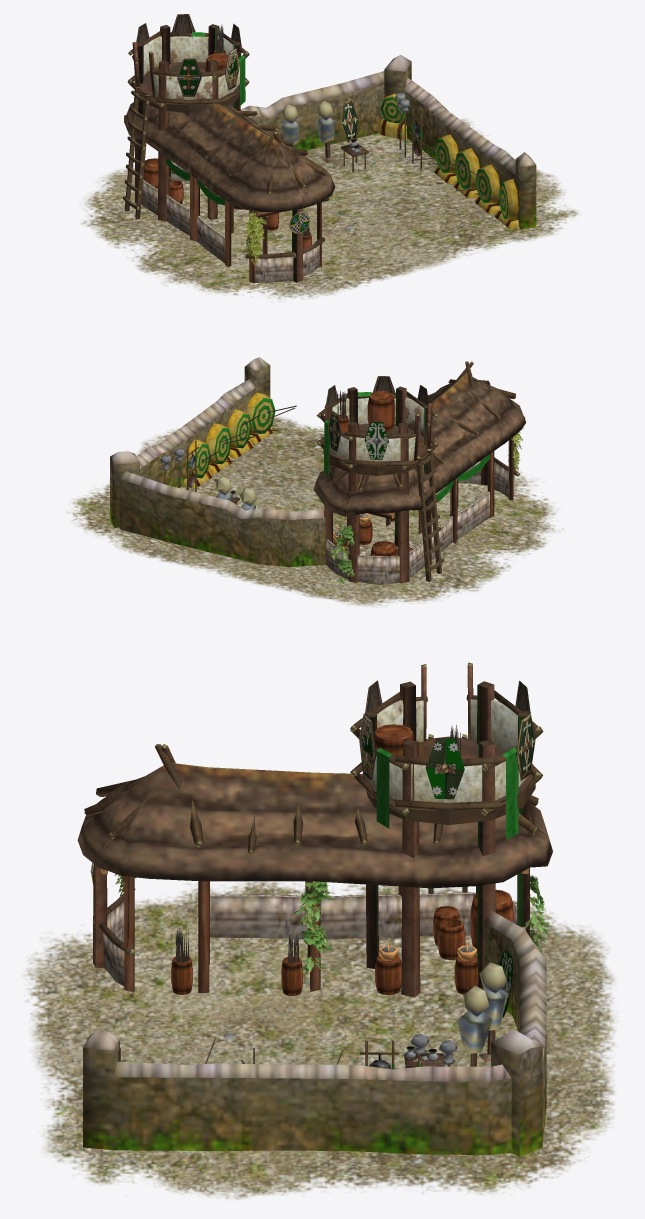
The picture shows the model from 3 angles, top to bottom: view 1: azimuth 30°, elevation 25°; view 2: azimuth 150°, elevation 25°; view 3: azimuth 270°, elevation 25°; orthographic projection. The views are drawn at different scales.
Parts seen in each view (by area): view 1: brit_range_struct, ground_decal, brit_range_struct.001, brit_range_nature; view 2: brit_range_struct, ground_decal, brit_range_struct.001, brit_range_nature; view 3: brit_range_struct, ground_decal, brit_range_struct.001, brit_range_nature.
Boxes of the visible parts, bbox=[...] form: brit_range_struct: bbox=[123, 24, 536, 283]; ground_decal: bbox=[81, 119, 578, 300]; brit_range_struct.001: bbox=[136, 14, 504, 235]; brit_range_nature: bbox=[169, 161, 269, 264]; brit_range_struct: bbox=[110, 357, 525, 584]; ground_decal: bbox=[67, 416, 563, 606]; brit_range_struct.001: bbox=[188, 376, 428, 521]; brit_range_nature: bbox=[324, 427, 523, 583]; brit_range_struct: bbox=[77, 662, 552, 1156]; ground_decal: bbox=[24, 881, 615, 1199]; brit_range_struct.001: bbox=[90, 680, 535, 1068]; brit_range_nature: bbox=[114, 873, 552, 974].
Bounding box in the file's own units: 30.51 × 11.81 × 24.01.
4 materials, 4 textured.
